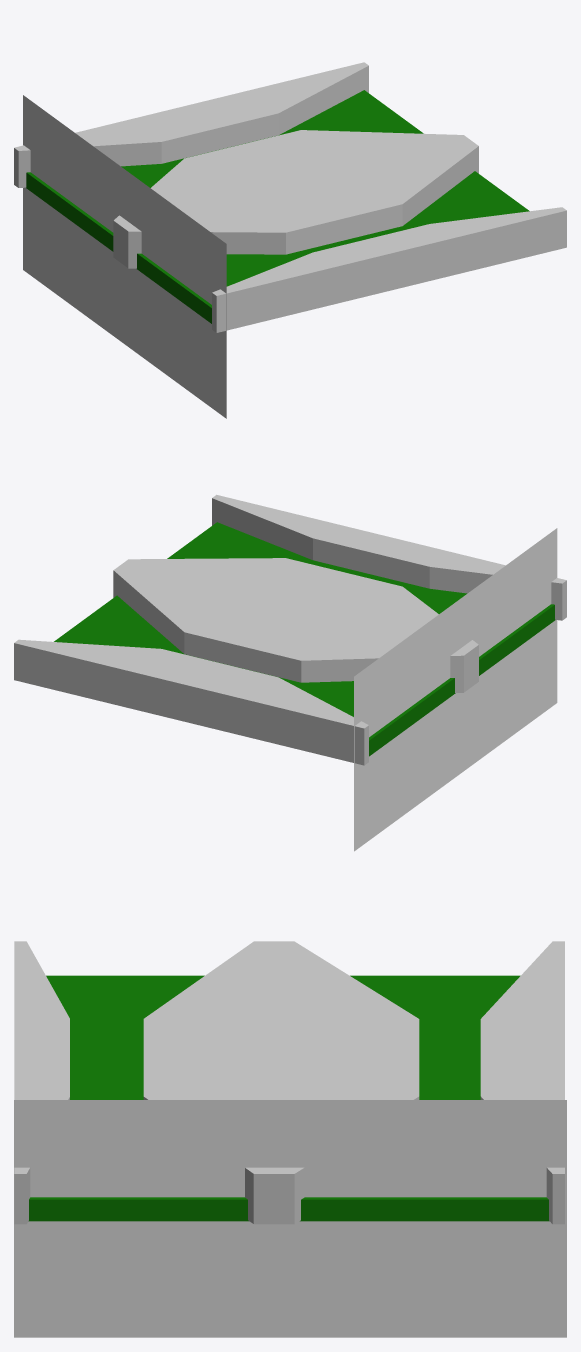
File: obstacle.gltf
The picture shows the model from 3 angles, top to bottom: view 1: azimuth 30°, elevation 25°; view 2: azimuth 150°, elevation 25°; view 3: azimuth 270°, elevation 25°; orthographic projection. The views are drawn at different scales.
Parts seen in each view (by area): view 1: obj_snap.002, Cube.005, Cube.003, Cube.004, Cube; view 2: obj_snap.002, Cube.005, Cube.004, Cube, Cube.003; view 3: obj_snap.003, Cube.005, Cube, Cube.004, Cube.003.
Part boxes in pixels (bbox=[...]): obj_snap.002: bbox=[23, 95, 226, 418]; Cube.005: bbox=[113, 130, 478, 268]; Cube.003: bbox=[212, 207, 566, 332]; Cube.004: bbox=[14, 62, 368, 187]; Cube: bbox=[26, 90, 529, 323]; obj_snap.002: bbox=[354, 528, 557, 851]; Cube.005: bbox=[113, 558, 478, 692]; Cube.004: bbox=[14, 639, 368, 765]; Cube: bbox=[54, 522, 555, 756]; Cube.003: bbox=[212, 494, 566, 620]; obj_snap.003: bbox=[14, 1100, 566, 1337]; Cube.005: bbox=[143, 941, 419, 1224]; Cube: bbox=[28, 975, 549, 1221]; Cube.004: bbox=[480, 941, 564, 1224]; Cube.003: bbox=[14, 941, 69, 1224].
Size of the model in its own units: 4.19 by 2 by 4.21.
